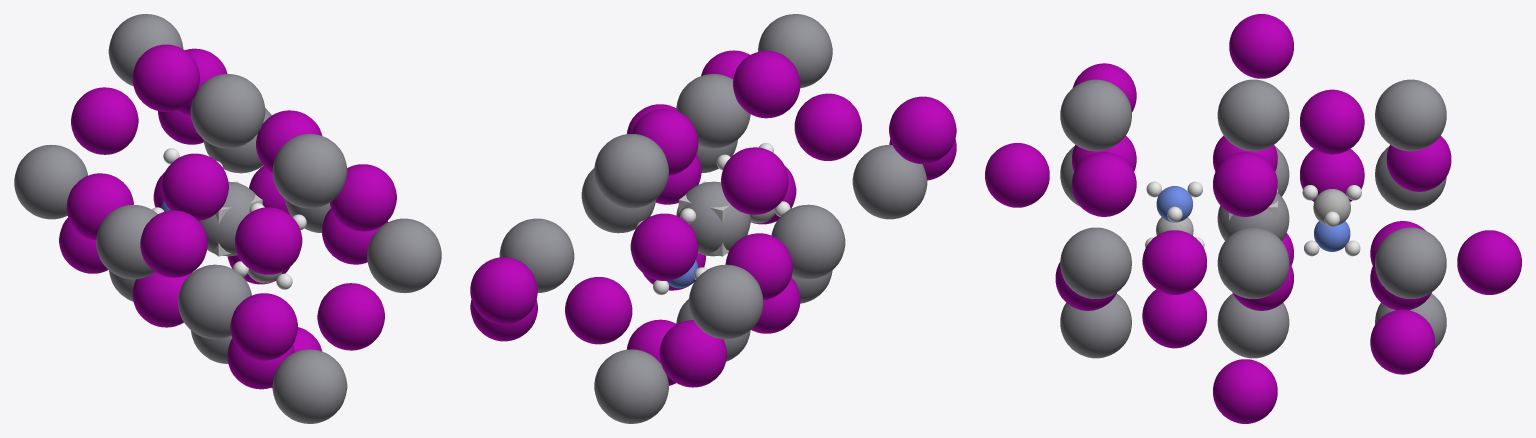
The picture shows the model from 3 angles, left to right: view 1: azimuth 30°, elevation 25°; view 2: azimuth 150°, elevation 25°; view 3: azimuth 270°, elevation 25°; orthographic projection. The views are drawn at different scales.
Visible parts, largest first — view 1: Lead|Ball (NURBS)_Lead|Dupli|8.0.0.0.0.0.0.0.0, Lead|Ball (NURBS)_Lead|Dupli|2.0.0.0.0.0.0.0.0, Lead|Ball (NURBS)_Lead|Dupli|9.0.0.0.0.0.0.0.0, Lead|Ball (NURBS)_Lead|Dupli|5.0.0.0.0.0.0.0.0, Lead|Ball (NURBS)_Lead|Dupli|0.0.0.0.0.0.0.0.0, Lead|Ball (NURBS)_Lead|Dupli|1.0.0.0.0.0.0.0.0, Iodine|Ball (NURBS)_Iodine|Dupli|0.0.0.0.0.0.0.0.0, Iodine|Ball (NURBS)_Iodine|Dupli|14.0.0.0.0.0.0.0.0, Iodine|Ball (NURBS)_Iodine|Dupli|15.0.0.0.0.0.0.0.0, Iodine|Ball (NURBS)_Iodine|Dupli|19.0.0.0.0.0.0.0.0, Iodine|Ball (NURBS)_Iodine|Dupli|13.0.0.0.0.0.0.0.0, Iodine|Ball (NURBS)_Iodine|Dupli|12.0.0.0.0.0.0.0.0 (+19 smaller); view 2: Lead|Ball (NURBS)_Lead|Dupli|11.0.0.0.0.0.0.0.0, Lead|Ball (NURBS)_Lead|Dupli|1.0.0.0.0.0.0.0.0, Lead|Ball (NURBS)_Lead|Dupli|10.0.0.0.0.0.0.0.0, Lead|Ball (NURBS)_Lead|Dupli|0.0.0.0.0.0.0.0.0, Lead|Ball (NURBS)_Lead|Dupli|6.0.0.0.0.0.0.0.0, Lead|Ball (NURBS)_Lead|Dupli|5.0.0.0.0.0.0.0.0, Iodine|Ball (NURBS)_Iodine|Dupli|12.0.0.0.0.0.0.0.0, Iodine|Ball (NURBS)_Iodine|Dupli|0.0.0.0.0.0.0.0.0, Iodine|Ball (NURBS)_Iodine|Dupli|4.0.0.0.0.0.0.0.0, Iodine|Ball (NURBS)_Iodine|Dupli|6.0.0.0.0.0.0.0.0, Iodine|Ball (NURBS)_Iodine|Dupli|14.0.0.0.0.0.0.0.0, Iodine|Ball (NURBS)_Iodine|Dupli|16.0.0.0.0.0.0.0.0 (+17 smaller); view 3: Lead|Ball (NURBS)_Lead|Dupli|9.0.0.0.0.0.0.0.0, Lead|Ball (NURBS)_Lead|Dupli|11.0.0.0.0.0.0.0.0, Lead|Ball (NURBS)_Lead|Dupli|7.0.0.0.0.0.0.0.0, Lead|Ball (NURBS)_Lead|Dupli|2.0.0.0.0.0.0.0.0, Lead|Ball (NURBS)_Lead|Dupli|3.0.0.0.0.0.0.0.0, Lead|Ball (NURBS)_Lead|Dupli|5.0.0.0.0.0.0.0.0, Iodine|Ball (NURBS)_Iodine|Dupli|17.0.0.0.0.0.0.0.0, Iodine|Ball (NURBS)_Iodine|Dupli|8.0.0.0.0.0.0.0.0, Iodine|Ball (NURBS)_Iodine|Dupli|13.0.0.0.0.0.0.0.0, Iodine|Ball (NURBS)_Iodine|Dupli|16.0.0.0.0.0.0.0.0, Iodine|Ball (NURBS)_Iodine|Dupli|18.0.0.0.0.0.0.0.0, Iodine|Ball (NURBS)_Iodine|Dupli|19.0.0.0.0.0.0.0.0 (+22 smaller).
Part boxes in pixels (left/top/right/bottom): Lead|Ball (NURBS)_Lead|Dupli|8.0.0.0.0.0.0.0.0: left=272, top=349, right=347, bottom=423; Lead|Ball (NURBS)_Lead|Dupli|2.0.0.0.0.0.0.0.0: left=367, top=218, right=441, bottom=292; Lead|Ball (NURBS)_Lead|Dupli|9.0.0.0.0.0.0.0.0: left=272, top=134, right=347, bottom=208; Lead|Ball (NURBS)_Lead|Dupli|5.0.0.0.0.0.0.0.0: left=190, top=74, right=265, bottom=148; Lead|Ball (NURBS)_Lead|Dupli|0.0.0.0.0.0.0.0.0: left=178, top=264, right=251, bottom=339; Lead|Ball (NURBS)_Lead|Dupli|1.0.0.0.0.0.0.0.0: left=14, top=145, right=87, bottom=219; Iodine|Ball (NURBS)_Iodine|Dupli|0.0.0.0.0.0.0.0.0: left=235, top=207, right=302, bottom=274; Iodine|Ball (NURBS)_Iodine|Dupli|14.0.0.0.0.0.0.0.0: left=71, top=87, right=138, bottom=154; Iodine|Ball (NURBS)_Iodine|Dupli|15.0.0.0.0.0.0.0.0: left=317, top=283, right=384, bottom=350; Iodine|Ball (NURBS)_Iodine|Dupli|19.0.0.0.0.0.0.0.0: left=132, top=44, right=199, bottom=111; Iodine|Ball (NURBS)_Iodine|Dupli|13.0.0.0.0.0.0.0.0: left=230, top=293, right=297, bottom=360; Iodine|Ball (NURBS)_Iodine|Dupli|12.0.0.0.0.0.0.0.0: left=140, top=210, right=207, bottom=277; Lead|Ball (NURBS)_Lead|Dupli|11.0.0.0.0.0.0.0.0: left=594, top=134, right=668, bottom=208; Lead|Ball (NURBS)_Lead|Dupli|1.0.0.0.0.0.0.0.0: left=689, top=264, right=763, bottom=339; Lead|Ball (NURBS)_Lead|Dupli|10.0.0.0.0.0.0.0.0: left=594, top=349, right=668, bottom=423; Lead|Ball (NURBS)_Lead|Dupli|0.0.0.0.0.0.0.0.0: left=852, top=145, right=927, bottom=219; Lead|Ball (NURBS)_Lead|Dupli|6.0.0.0.0.0.0.0.0: left=771, top=204, right=845, bottom=279; Lead|Ball (NURBS)_Lead|Dupli|5.0.0.0.0.0.0.0.0: left=676, top=74, right=750, bottom=148; Iodine|Ball (NURBS)_Iodine|Dupli|12.0.0.0.0.0.0.0.0: left=889, top=96, right=956, bottom=163; Iodine|Ball (NURBS)_Iodine|Dupli|0.0.0.0.0.0.0.0.0: left=794, top=93, right=861, bottom=160; Iodine|Ball (NURBS)_Iodine|Dupli|4.0.0.0.0.0.0.0.0: left=565, top=277, right=632, bottom=344; Iodine|Ball (NURBS)_Iodine|Dupli|6.0.0.0.0.0.0.0.0: left=721, top=147, right=788, bottom=214; Iodine|Ball (NURBS)_Iodine|Dupli|14.0.0.0.0.0.0.0.0: left=630, top=213, right=698, bottom=280; Iodine|Ball (NURBS)_Iodine|Dupli|16.0.0.0.0.0.0.0.0: left=470, top=257, right=537, bottom=324; Lead|Ball (NURBS)_Lead|Dupli|9.0.0.0.0.0.0.0.0: left=1060, top=79, right=1131, bottom=151; Lead|Ball (NURBS)_Lead|Dupli|11.0.0.0.0.0.0.0.0: left=1375, top=79, right=1446, bottom=151; Lead|Ball (NURBS)_Lead|Dupli|7.0.0.0.0.0.0.0.0: left=1217, top=227, right=1289, bottom=298; Lead|Ball (NURBS)_Lead|Dupli|2.0.0.0.0.0.0.0.0: left=1060, top=227, right=1131, bottom=298; Lead|Ball (NURBS)_Lead|Dupli|3.0.0.0.0.0.0.0.0: left=1375, top=227, right=1446, bottom=298; Lead|Ball (NURBS)_Lead|Dupli|5.0.0.0.0.0.0.0.0: left=1217, top=79, right=1289, bottom=151; Iodine|Ball (NURBS)_Iodine|Dupli|17.0.0.0.0.0.0.0.0: left=1370, top=309, right=1434, bottom=374; Iodine|Ball (NURBS)_Iodine|Dupli|8.0.0.0.0.0.0.0.0: left=1300, top=89, right=1364, bottom=154; Iodine|Ball (NURBS)_Iodine|Dupli|13.0.0.0.0.0.0.0.0: left=985, top=143, right=1049, bottom=207; Iodine|Ball (NURBS)_Iodine|Dupli|16.0.0.0.0.0.0.0.0: left=1457, top=230, right=1521, bottom=294; Iodine|Ball (NURBS)_Iodine|Dupli|18.0.0.0.0.0.0.0.0: left=1213, top=359, right=1277, bottom=423; Iodine|Ball (NURBS)_Iodine|Dupli|19.0.0.0.0.0.0.0.0: left=1229, top=14, right=1293, bottom=78.
Size of the model in its own units: 1463 by 1584 by 2201.
